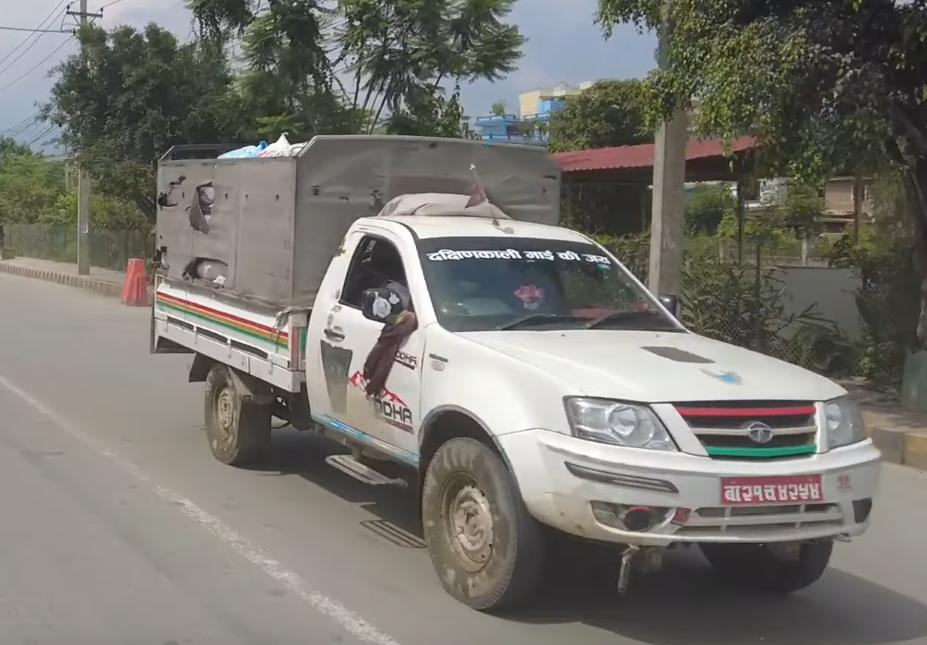transport_vehicle: (151, 117, 878, 625)
